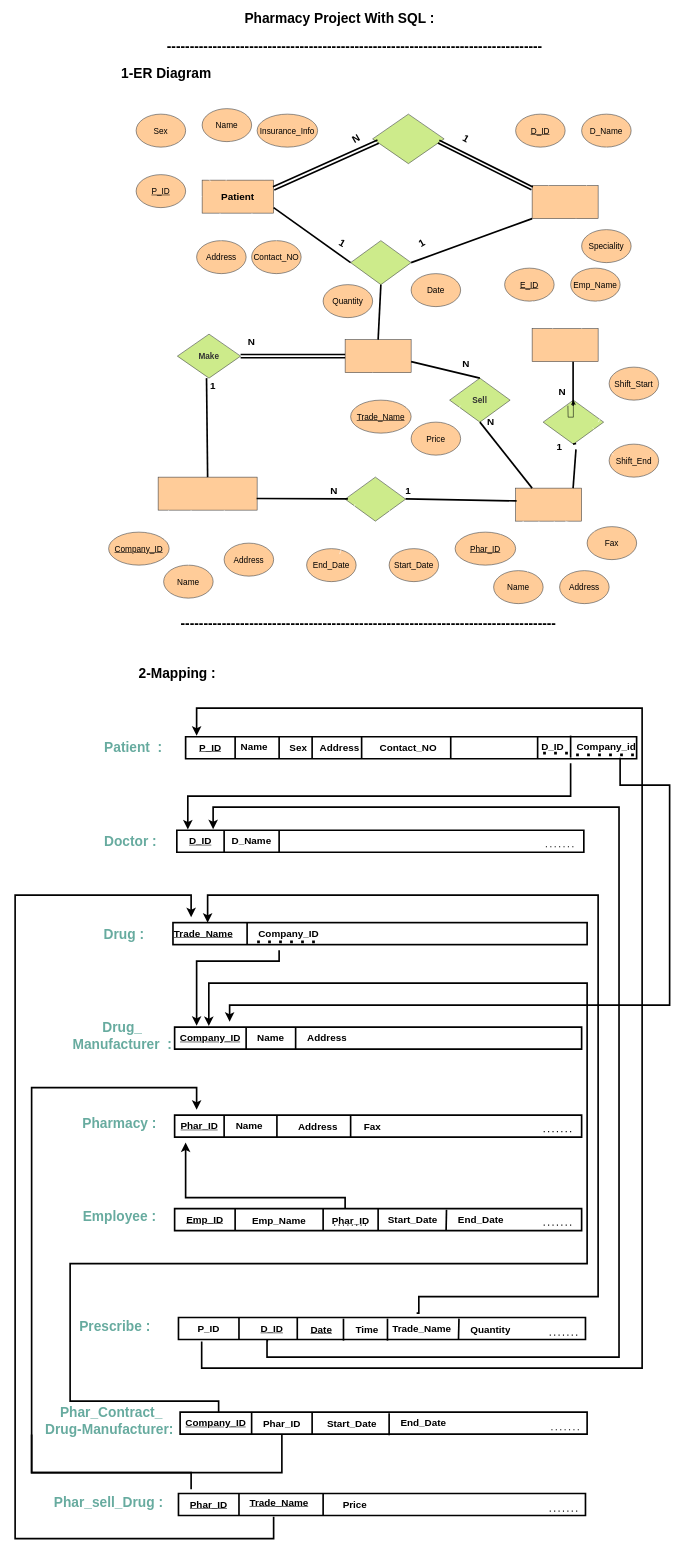
The diagram is 685 pixels wide and 1554 high, and some of its shapes have lost their labels. The centre of each missing label's shape, as x and y in pixels:
"Contract" goes at point (375, 499).
"Doctor" goes at point (565, 202).
"Drug" goes at point (378, 356).
"Drug_Manufacturer" goes at point (207, 493).
"Employee" goes at point (565, 345).
"Pharmacy" goes at point (548, 504).
"Prescribe" goes at point (380, 262).
"Seen By" goes at point (408, 139).
"Work" goes at point (573, 422).
